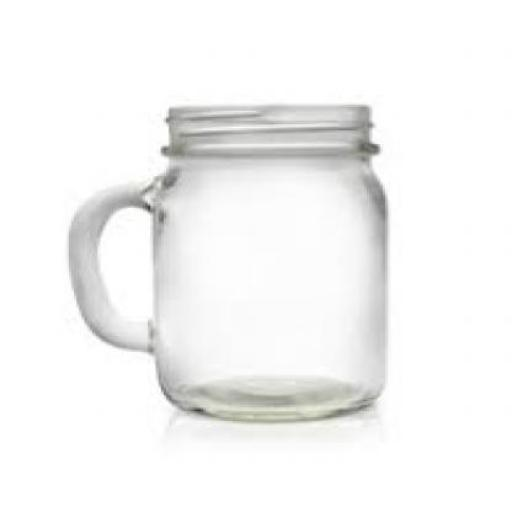glass: (66, 103, 386, 419)
